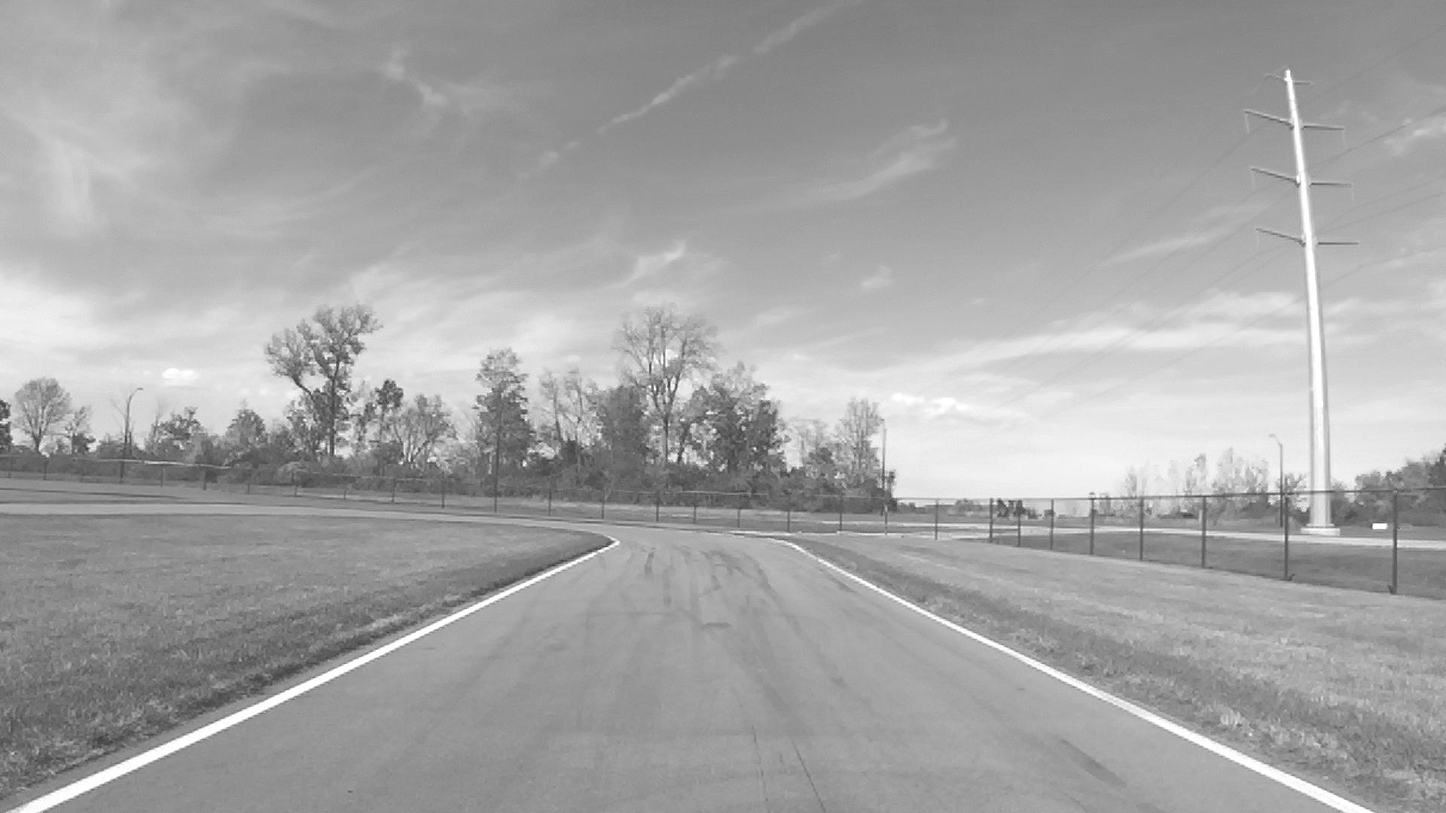white-line: (0, 536, 618, 813), (767, 539, 1379, 813)
